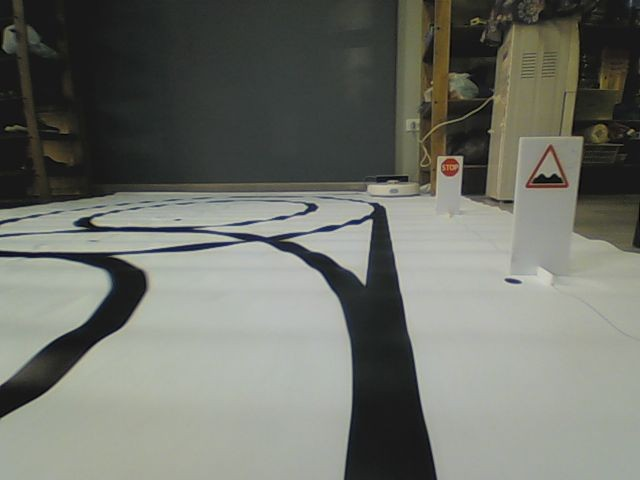Stop: (439, 157, 461, 177)
